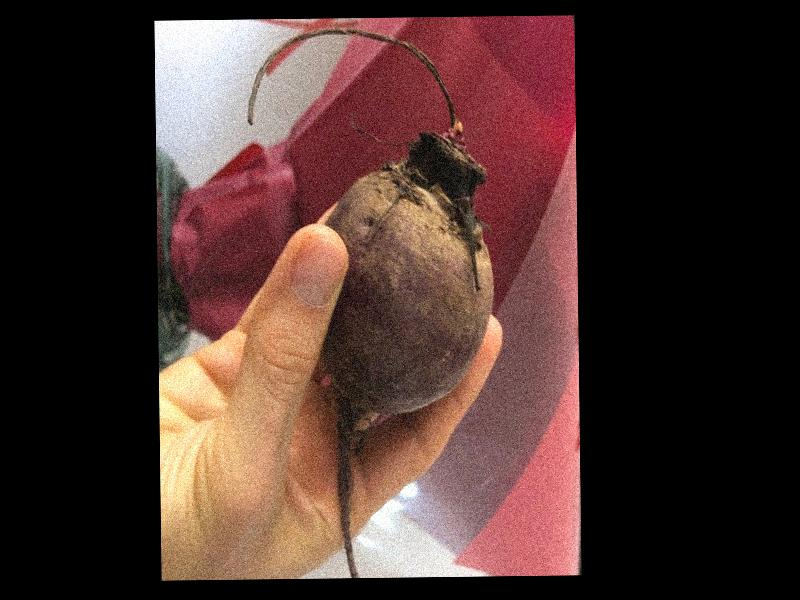Beet: (246, 24, 497, 577)
